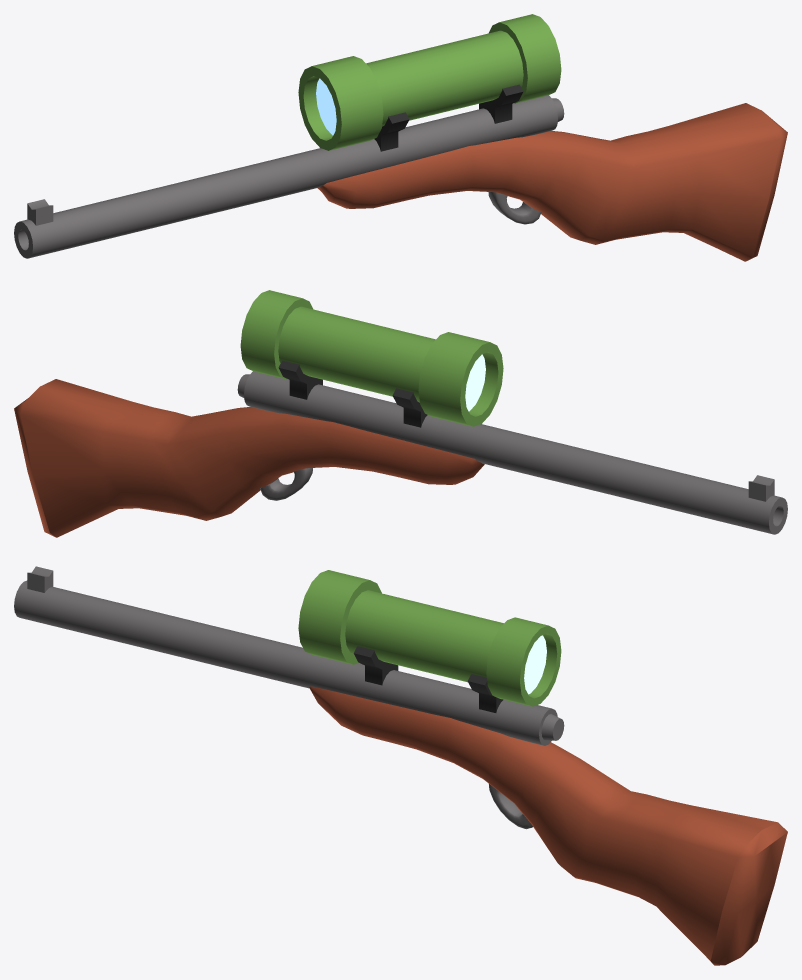
Rendered from Rifle.fbx.
3 views of the same model, one above another, from view 1: azimuth 30°, elevation 25°; view 2: azimuth 150°, elevation 25°; view 3: azimuth 330°, elevation 25° (orthographic).
Parts seen in each view (by area): view 1: Sniper_Riffle.001; view 2: Sniper_Riffle.001; view 3: Sniper_Riffle.001.
Boxes of the visible parts, bbox=[...] form: Sniper_Riffle.001: bbox=[14, 14, 787, 261]; Sniper_Riffle.001: bbox=[14, 290, 787, 537]; Sniper_Riffle.001: bbox=[14, 566, 787, 965].
Bounding box in the file's own units: 450 × 164 × 48.81.
